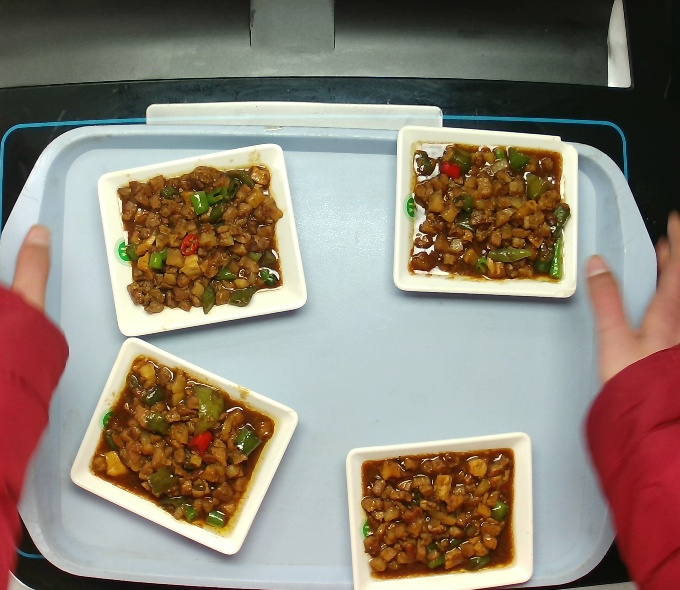wcq-XiaoJiangRou: (88, 351, 279, 537), (111, 161, 286, 322), (406, 137, 574, 287), (357, 445, 518, 586)
